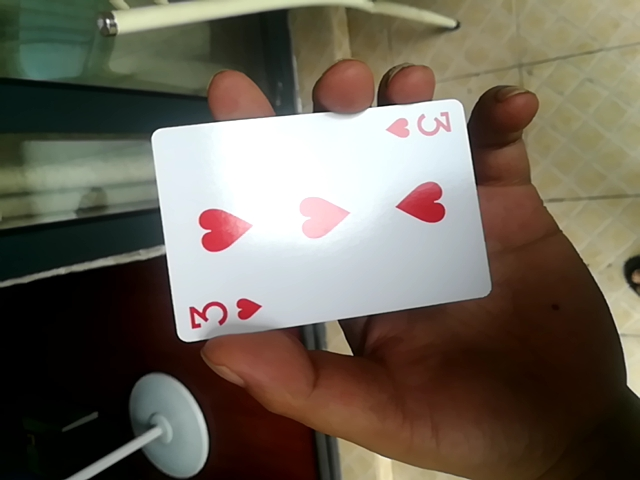hx 3: (147, 97, 493, 348)
